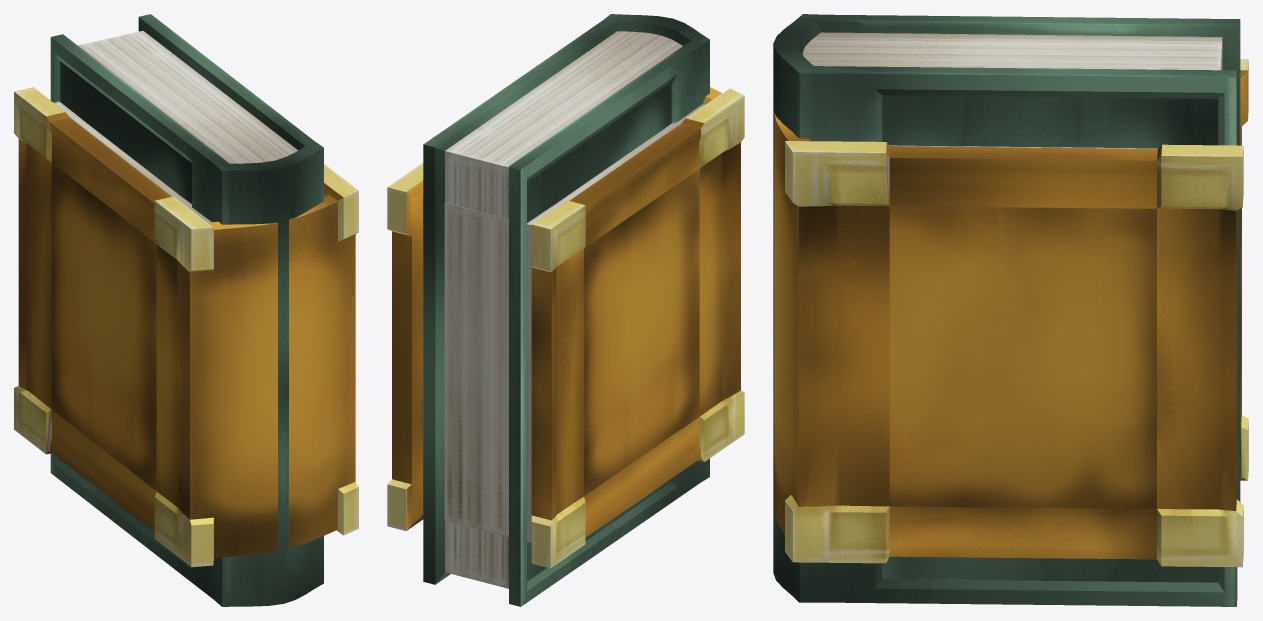
Rendered from MDL_Books_01.fbx.
3 views of the same model, side by side, from view 1: azimuth 30°, elevation 25°; view 2: azimuth 150°, elevation 25°; view 3: azimuth 270°, elevation 25° (orthographic). The views are drawn at different scales.
Visible parts, largest first — view 1: MDL_Office_Book_01.003, MDL_Office_Book_02.002; view 2: MDL_Office_Book_01.003, MDL_Office_Book_02.002; view 3: MDL_Office_Book_01.003, MDL_Office_Book_02.002.
Boxes of the visible parts, x1,y1,x2,y2 form: MDL_Office_Book_01.003: [14, 87, 358, 567]; MDL_Office_Book_02.002: [50, 14, 323, 606]; MDL_Office_Book_01.003: [387, 87, 744, 568]; MDL_Office_Book_02.002: [423, 14, 709, 606]; MDL_Office_Book_01.003: [774, 59, 1248, 567]; MDL_Office_Book_02.002: [773, 14, 1240, 606].
Bounding box in the file's own units: 8.75 × 21.05 × 17.13.
2 materials, 2 textured.
